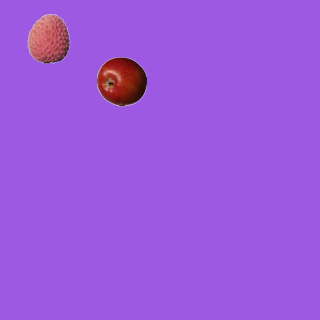Apple Braeburn: (96, 56, 146, 106)
Lychee: (23, 13, 73, 63)
